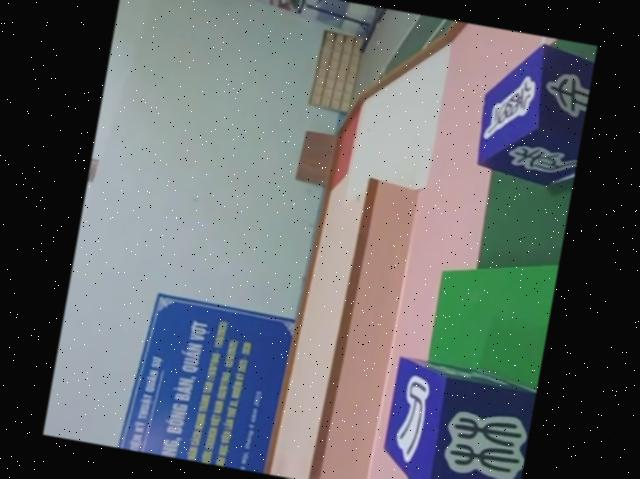R2 Fake Blue: (377, 353, 539, 479), (472, 33, 597, 189)
